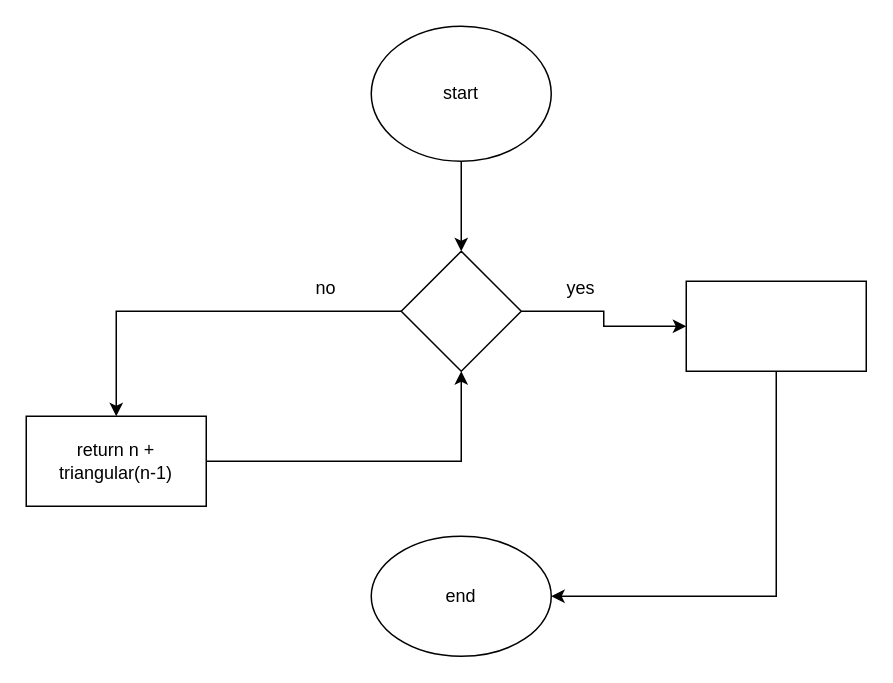
This 893x683 diagram has some shape labels left out. The shapes that lost their labels are listed below. From the top down, each one's centre as x and y in pixels, then its label:
At point (460, 310): "n==1?".
At point (775, 325): "return 1".
